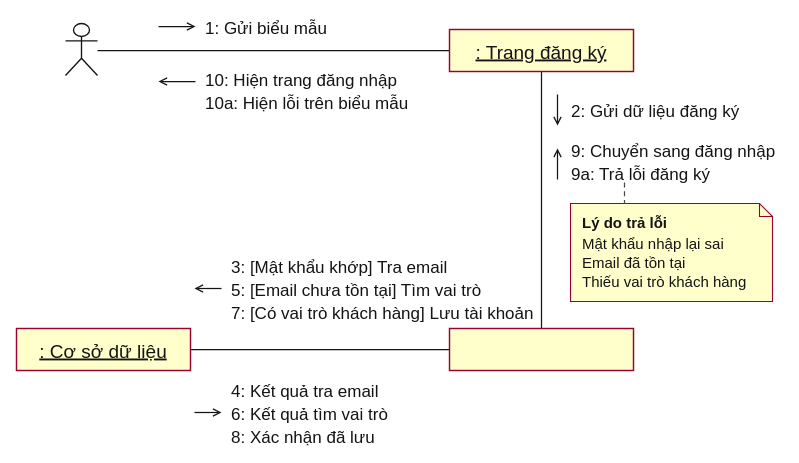
Image size: 799x463. Some labels were removed from this diagram. The shapes that lost their labels are listed below. From the top down, each one's centre as x and y in pixels, then its label:
At (x=81, y=49): "Khách hàng".
At (x=541, y=349): ": Xử lý đăng ký".
